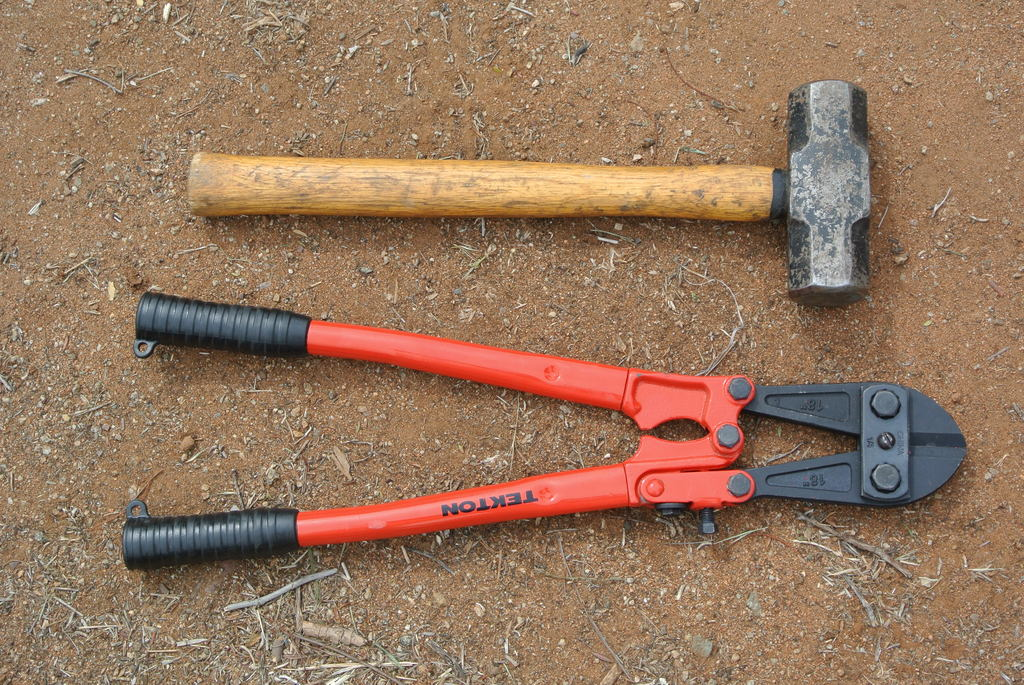Hammer: (184, 80, 880, 308)
